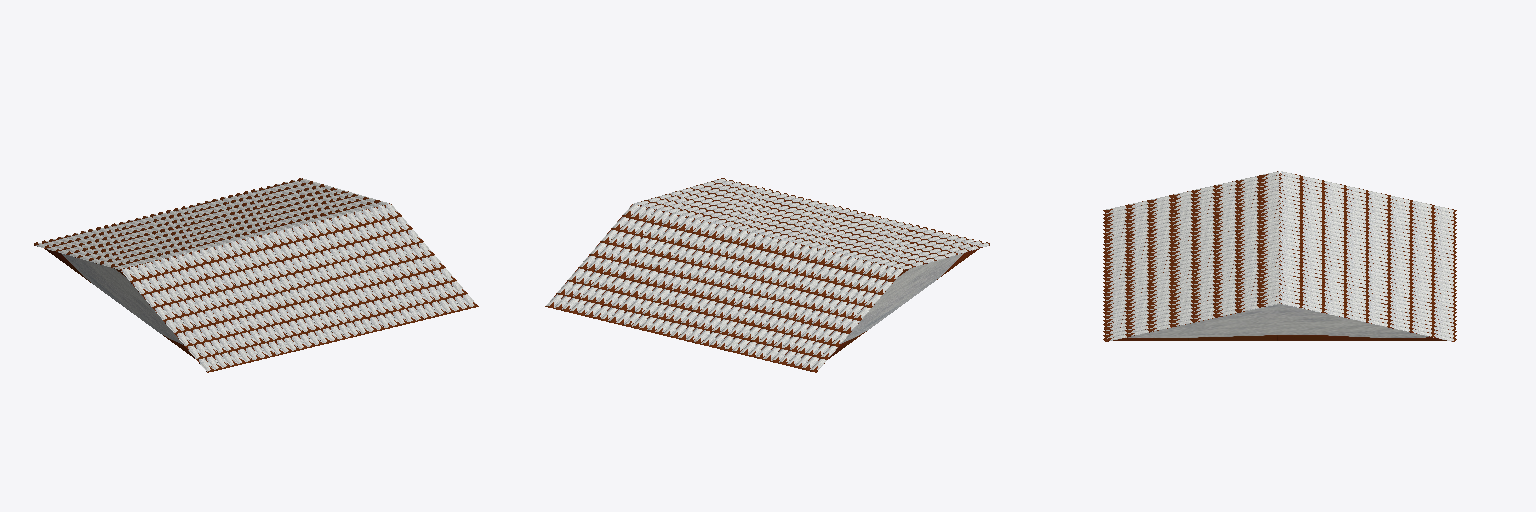
The picture shows the model from 3 angles: view 1: azimuth 30°, elevation 25°; view 2: azimuth 150°, elevation 25°; view 3: azimuth 270°, elevation 25°; orthographic projection.
Visible parts, largest first — view 1: ROOF_ROOF_T001, ROOF_ROOF_T002, Prism001; view 2: ROOF_ROOF_T002, ROOF_ROOF_T001, Prism001; view 3: ROOF_ROOF_T001, ROOF_ROOF_T002, Prism001.
Boxes of the visible parts, x1,y1,x2,y2 form: ROOF_ROOF_T001: [120, 204, 478, 372]; ROOF_ROOF_T002: [34, 178, 391, 269]; Prism001: [45, 204, 386, 358]; ROOF_ROOF_T002: [545, 204, 903, 372]; ROOF_ROOF_T001: [632, 178, 989, 269]; Prism001: [637, 204, 978, 358]; ROOF_ROOF_T001: [1103, 171, 1280, 341]; ROOF_ROOF_T002: [1279, 171, 1456, 341]; Prism001: [1113, 175, 1446, 340].
Bounding box in the file's own units: 566 × 79.47 × 639.
Materials: 2 (1 with a texture image).